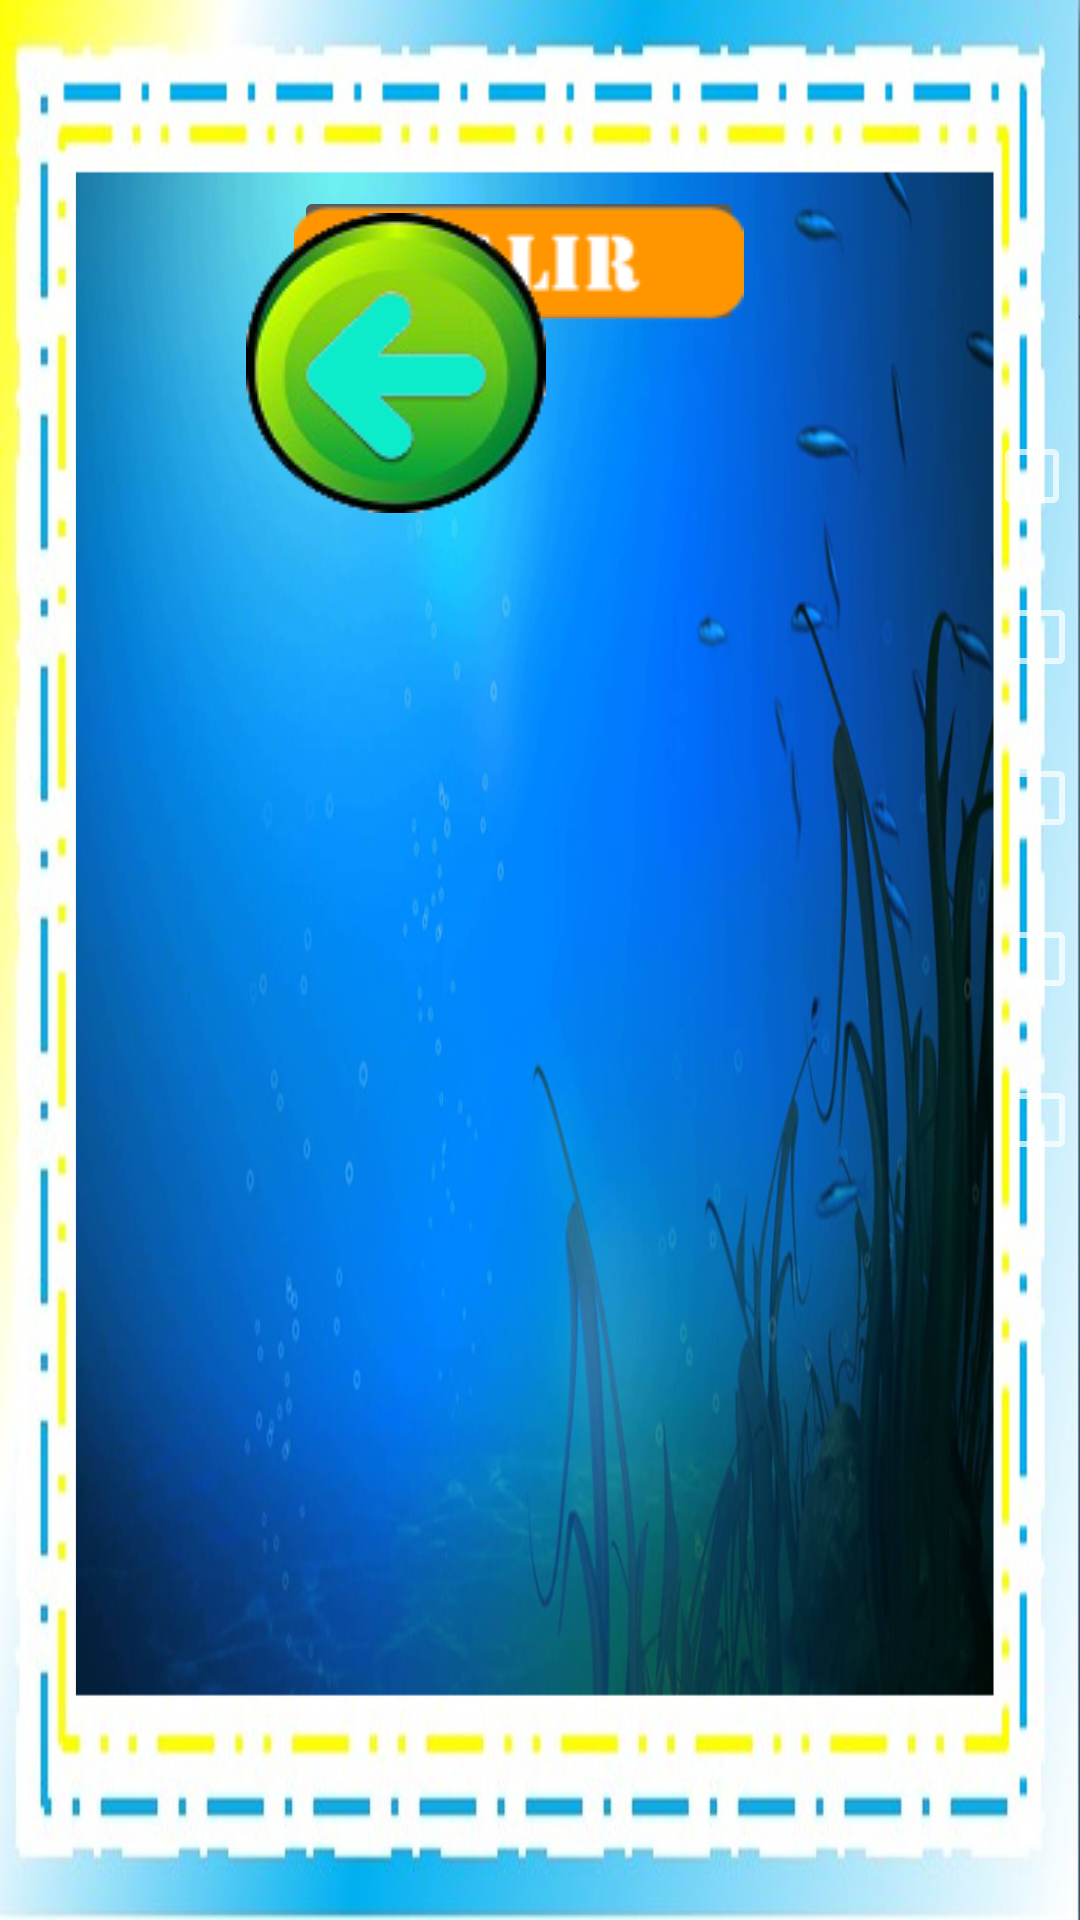

Screen size 1080px×1920px. Icon name, then its center in pixels as (x=x, y=y):
back: (x=396, y=363)
